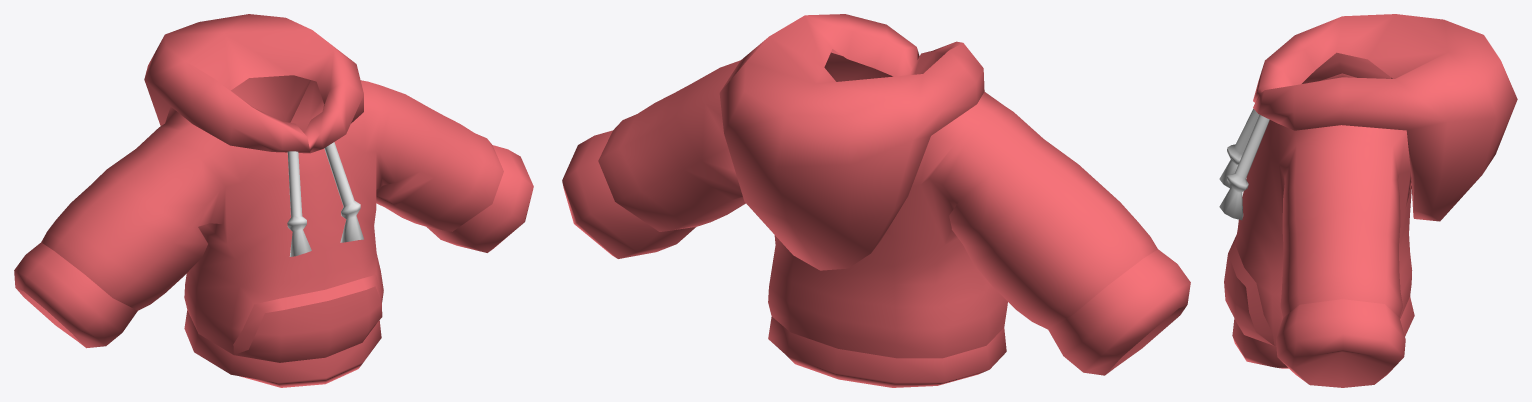
The model's file is Top_03_Slim.fbx.
The picture shows the model from 3 angles, left to right: view 1: azimuth 30°, elevation 25°; view 2: azimuth 150°, elevation 25°; view 3: azimuth 270°, elevation 25°; orthographic projection. The views are drawn at different scales.
Visible parts, largest first — view 1: Top_03_Slim; view 2: Top_03_Slim; view 3: Top_03_Slim.
Part boxes in pixels (x1,y1,x2,y2): Top_03_Slim: (14,14,533,387); Top_03_Slim: (562,14,1190,387); Top_03_Slim: (1219,14,1517,387).
Bounding box in the file's own units: 91.47 × 49.4 × 45.
